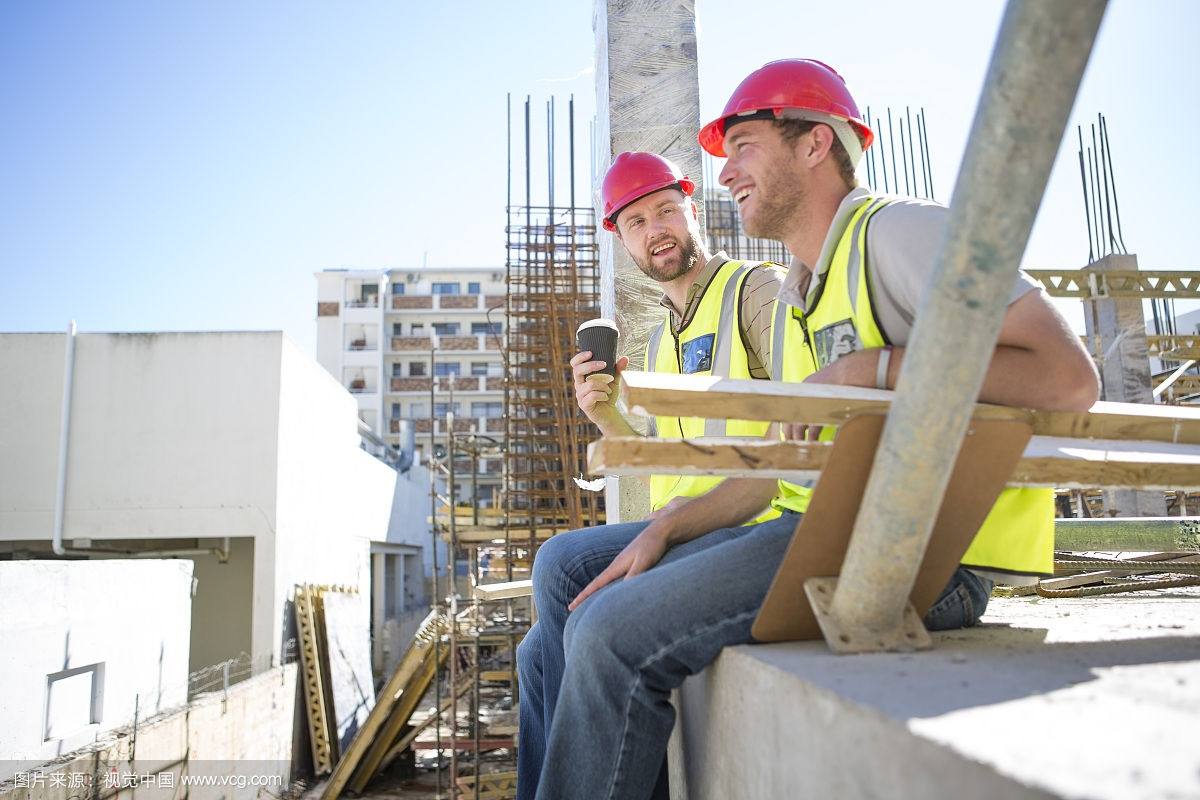red: (702, 54, 875, 245), (594, 149, 710, 282)
